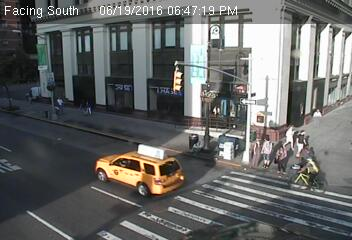neg: (295, 153, 324, 191), (22, 168, 45, 200), (320, 44, 340, 71), (160, 29, 178, 53), (125, 74, 141, 95), (140, 168, 155, 188), (172, 142, 187, 162), (280, 29, 295, 49), (63, 134, 78, 154), (231, 24, 245, 43), (187, 77, 201, 95), (60, 193, 71, 208)
pos: (270, 141, 294, 172), (255, 135, 278, 165), (244, 137, 266, 167), (291, 127, 313, 157), (280, 122, 300, 149), (50, 93, 66, 115), (81, 98, 94, 115)
